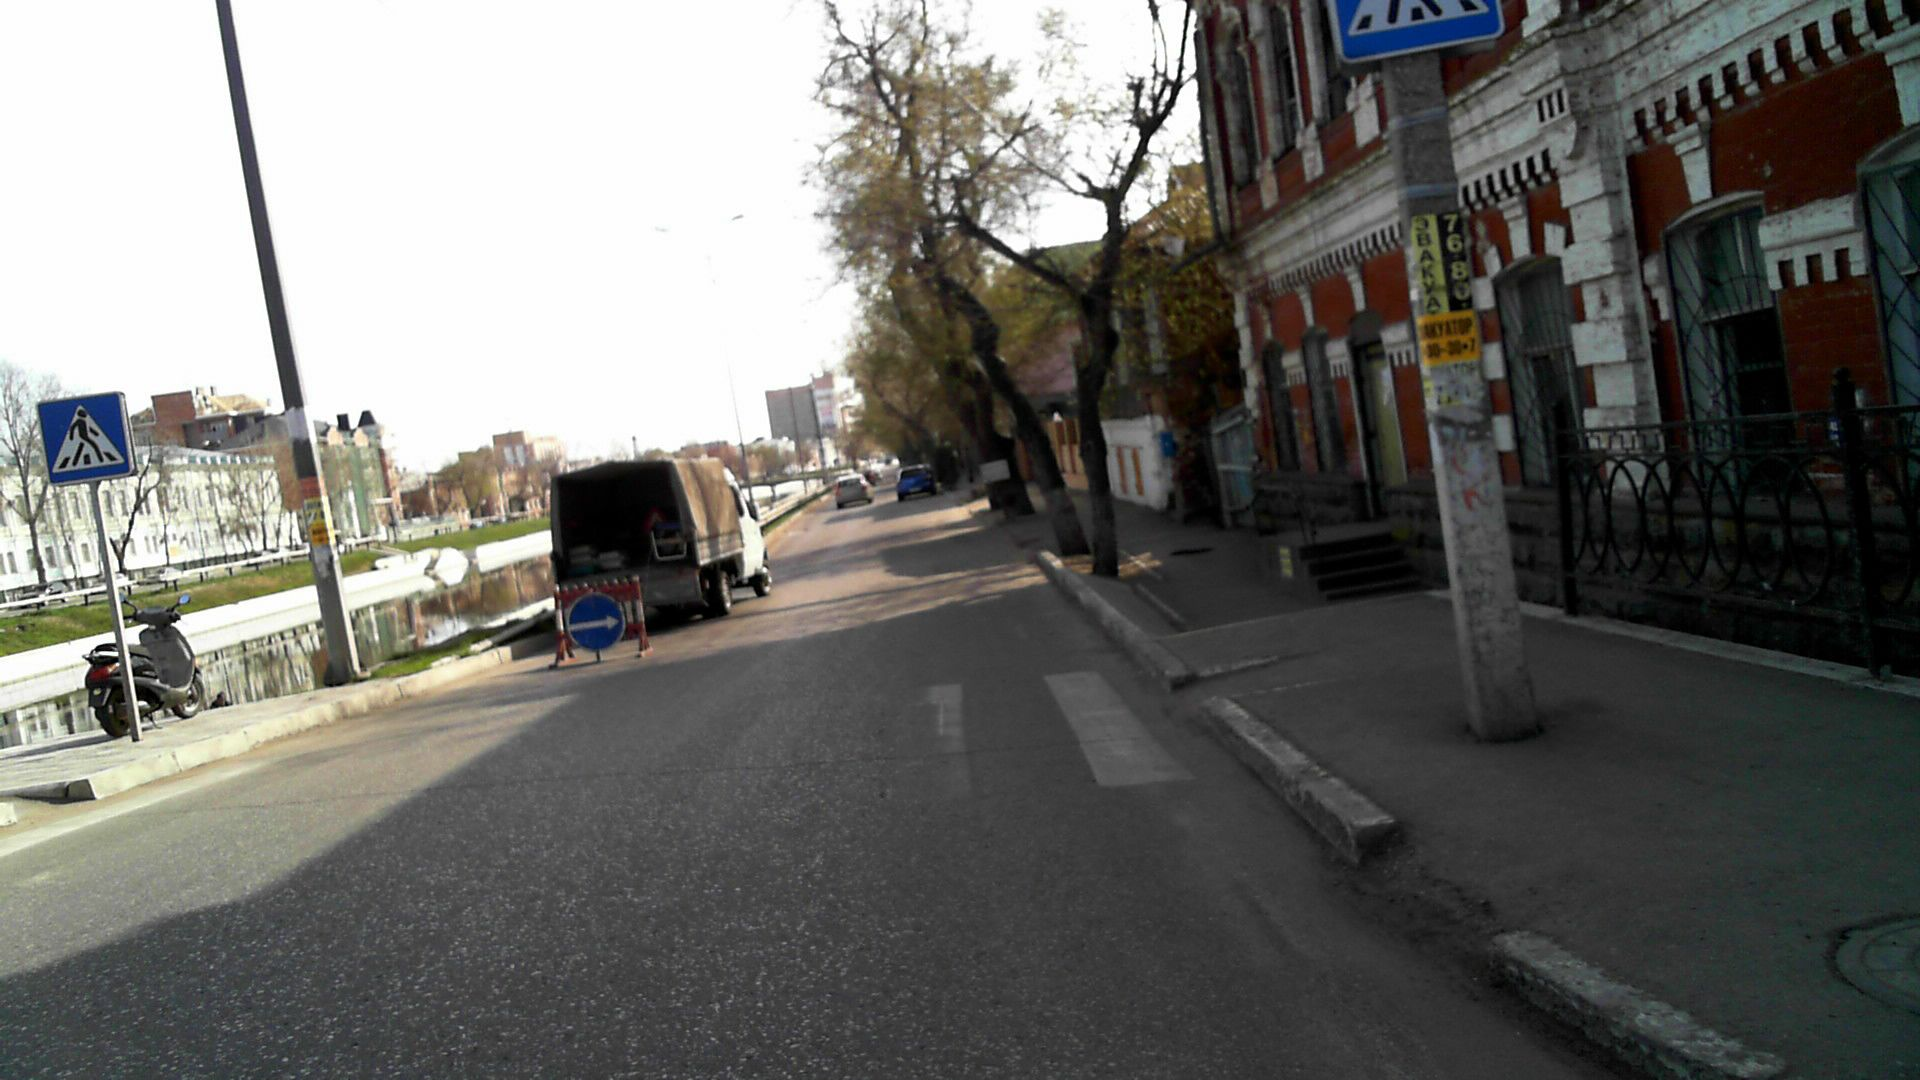Turn Right: (568, 592, 625, 650)
